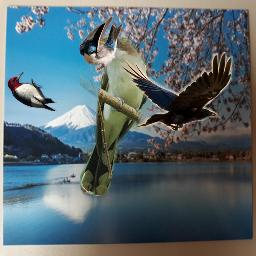Crow: (120, 52, 234, 131)
Cuckoo: (80, 35, 151, 196)
Swallow: (79, 16, 122, 74)
Woodpecker: (5, 71, 58, 111)
